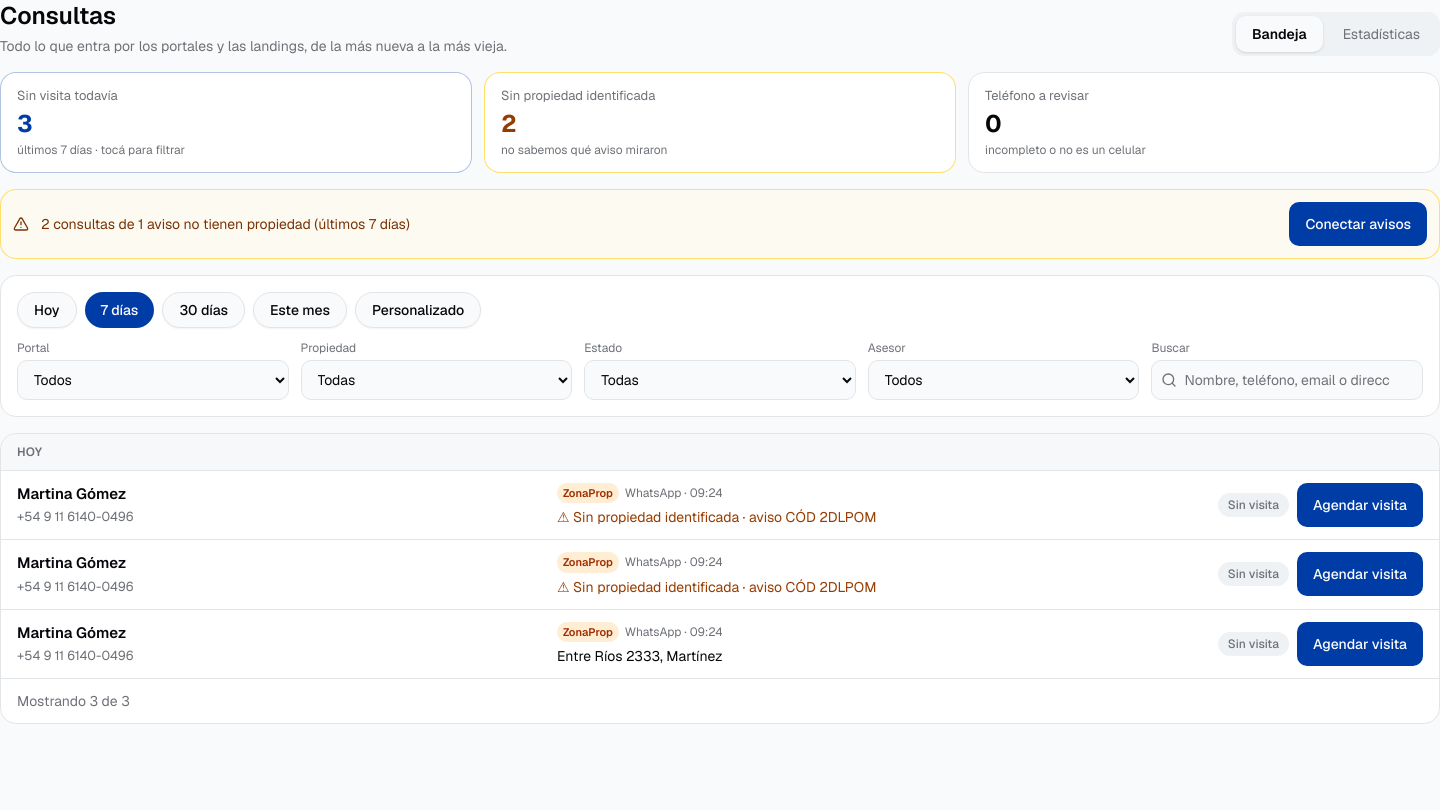
Test: /consultas — avisos sin propiedad › admin ve «2 consultas de 1 aviso no tienen propiedad» y conecta el aviso entero en un toque
The image size is (1440, 810).
Expected: the text "2 consultas de 1 aviso no tienen propiedad (últimos 7 días)" is shown, [41,215,410,233]
Click the button "Conectar avisos" at (1358,224), box [1290,202,1427,246]
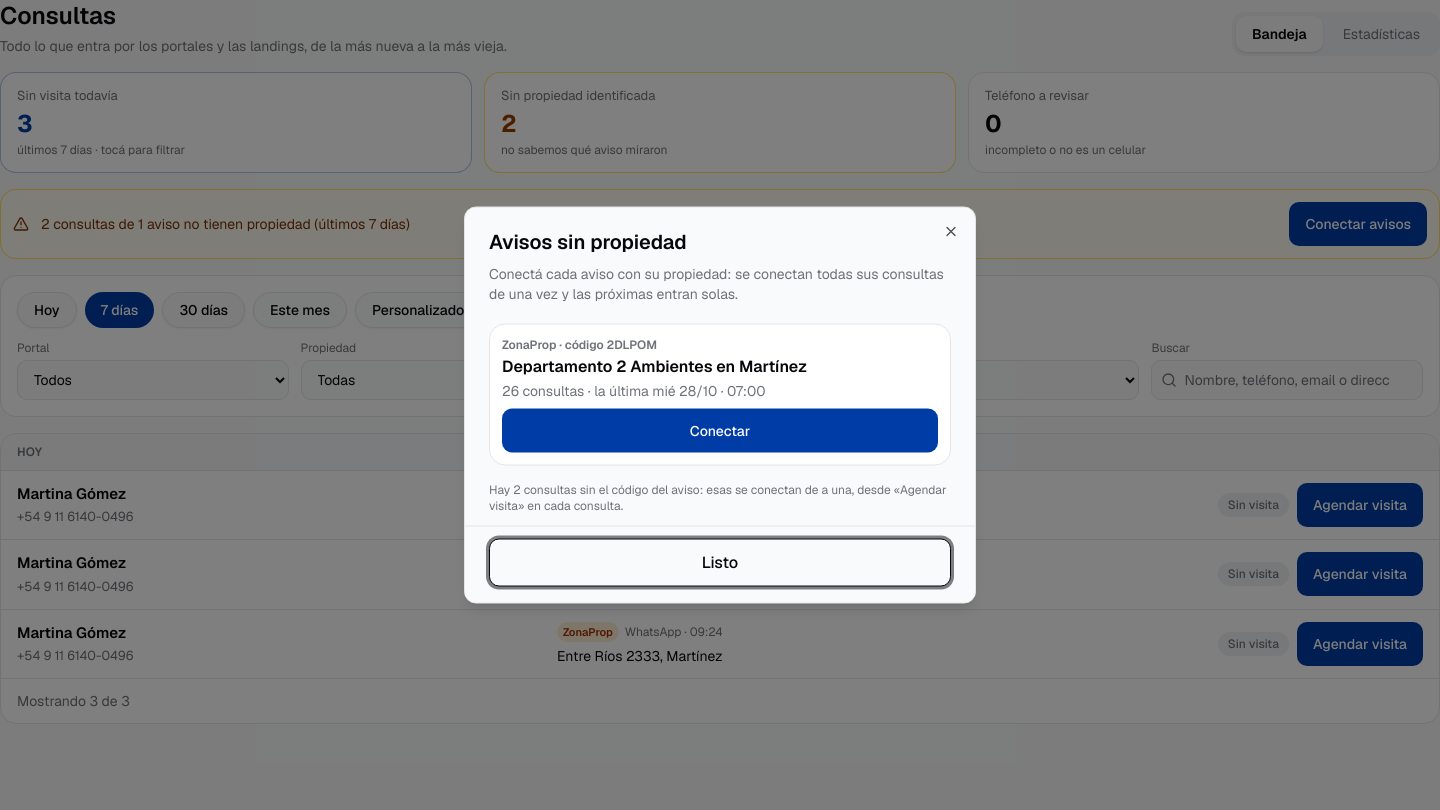
Expected: the text "Departamento 2 Ambientes en Martínez" is shown, [502,354,807,378]
Expected: the text "26 consultas · la última mié 28/10 · 07:00" is shown, [502,380,807,400]
Click the button "Conectar" at (720,430), box [502,408,938,452]
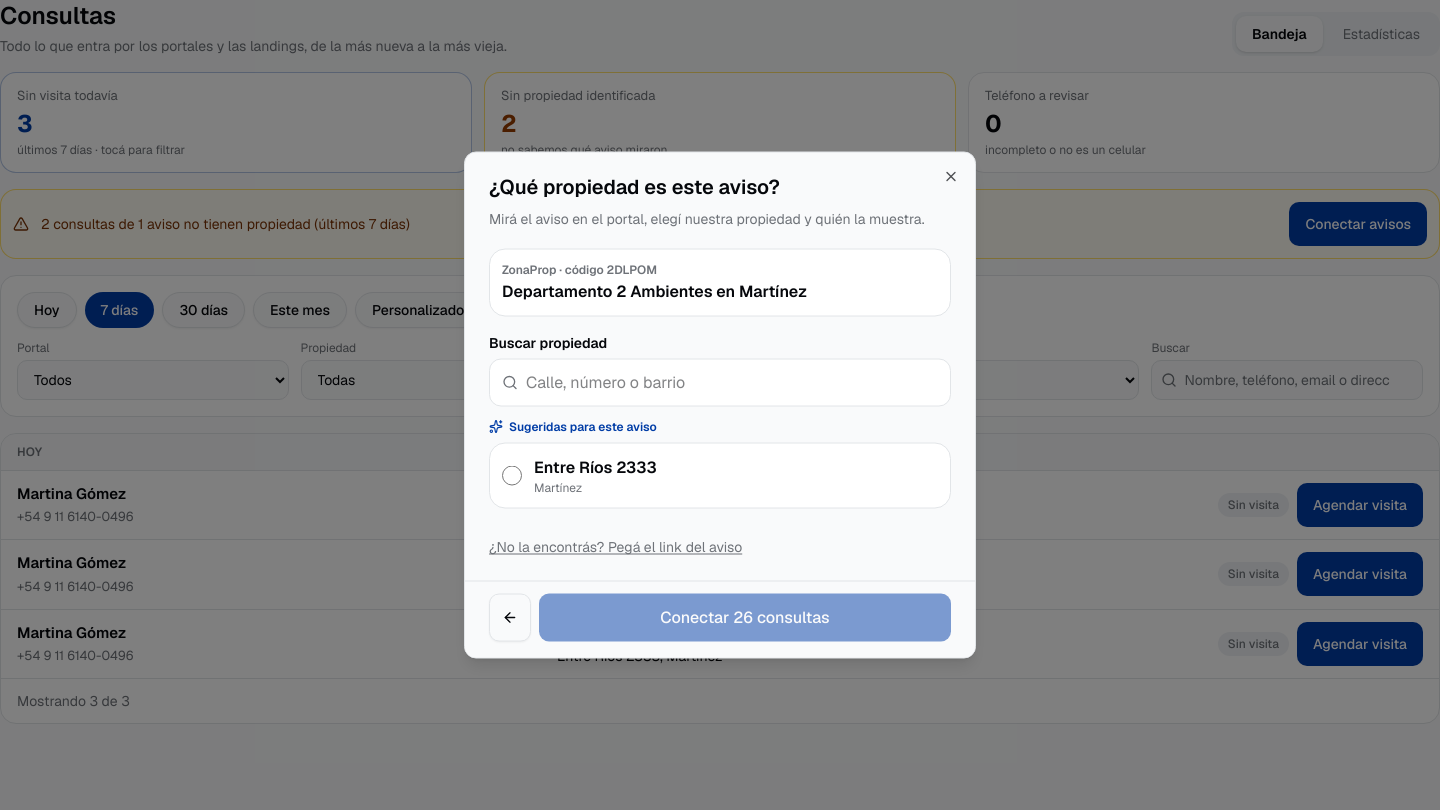
Expected: the text "Sugeridas para este aviso" is shown, [489,418,657,434]
Click the radio button labelled "Entre Ríos 2333 Martínez" at (512,476), box [502,466,522,486]
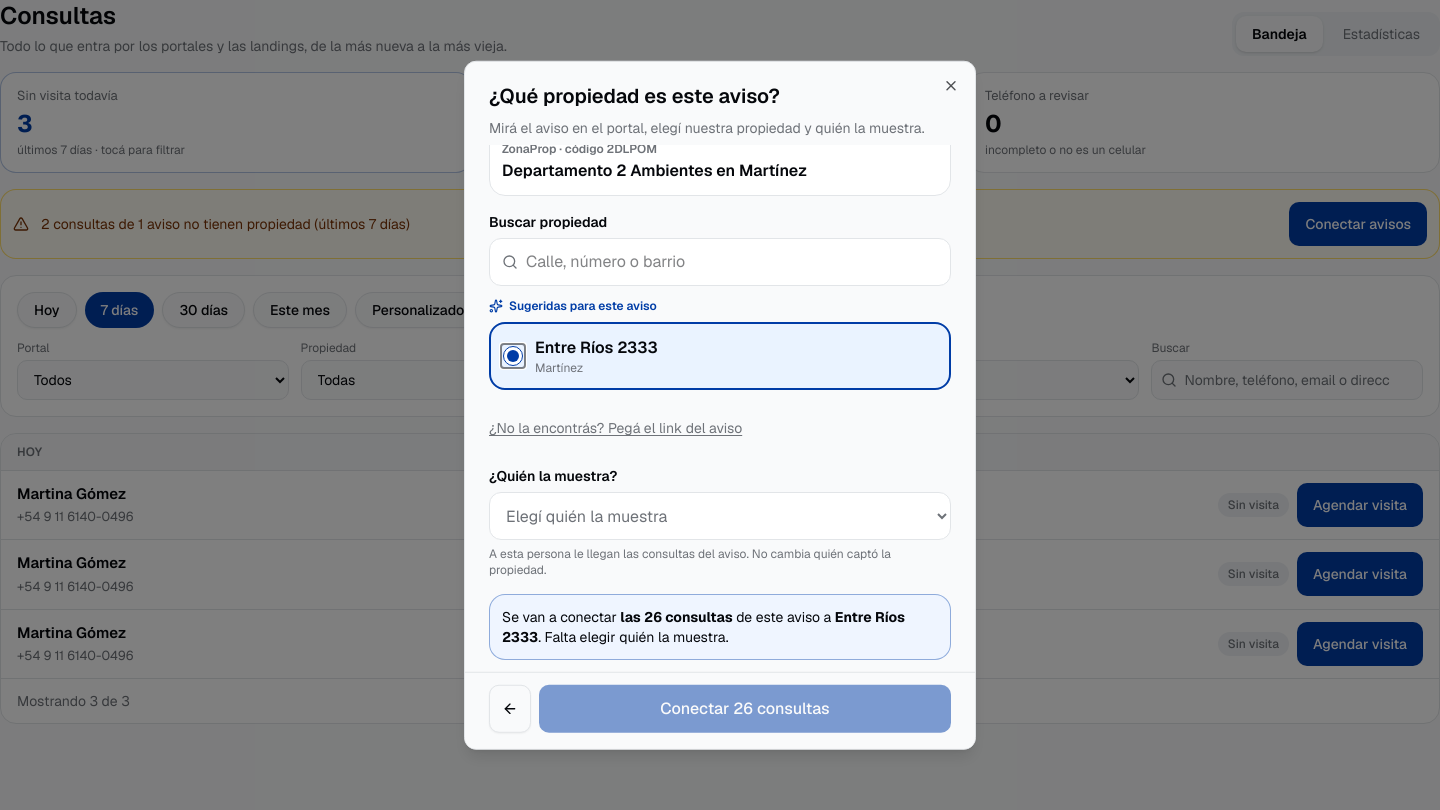
Expected: the button "Conectar 26 consultas" is disabled, [539,684,951,732]
Expected: the text "Se van a conectar" shows "Se van a conectar las 26 consultas de este aviso a Entre Ríos 2333", [489,594,951,660]
Select "Lucas Pérez" in the dropdown labelled "Quién la muestra" at (720,516), box [489,492,951,540]
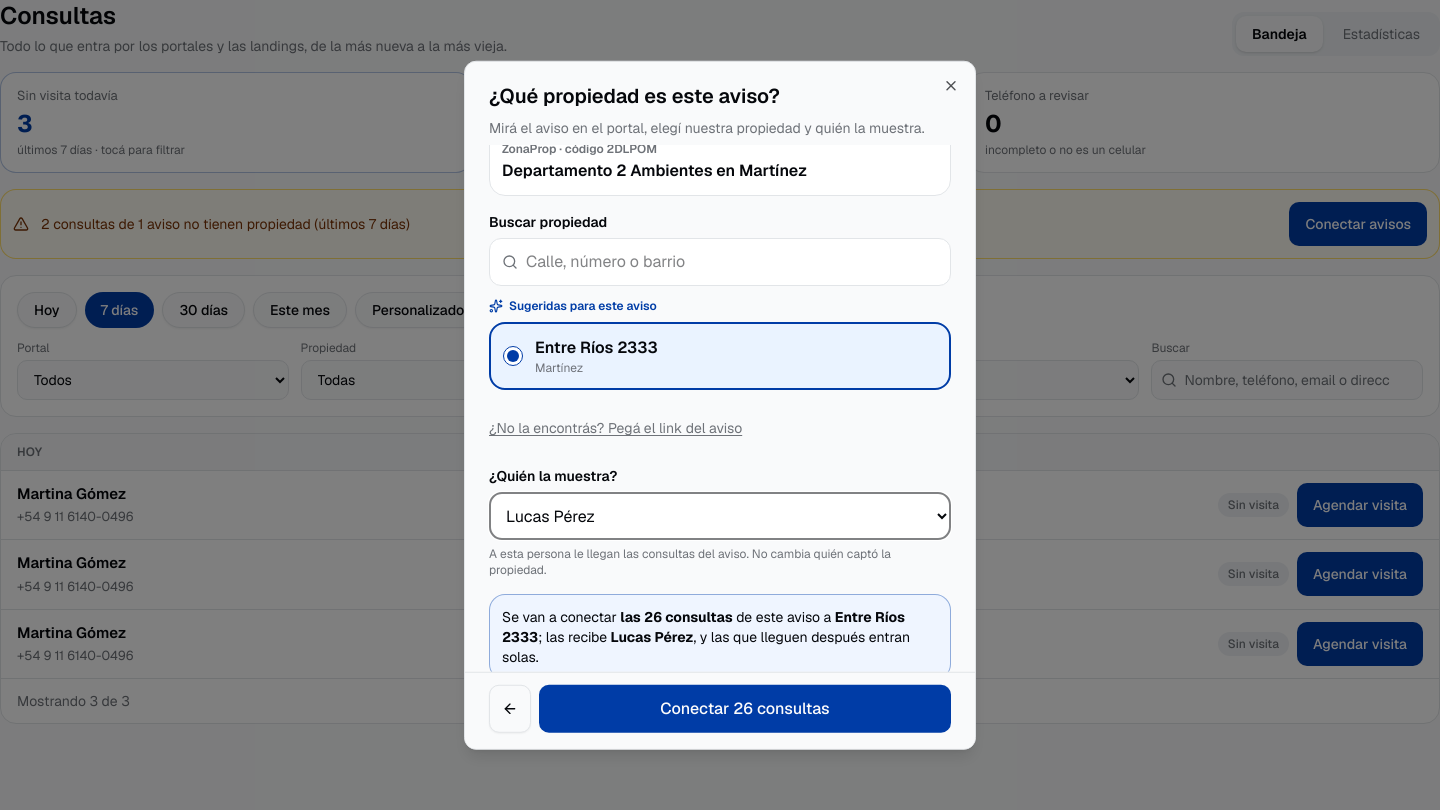
Click the button "Conectar 26 consultas" at (745,708), box [539,684,951,732]
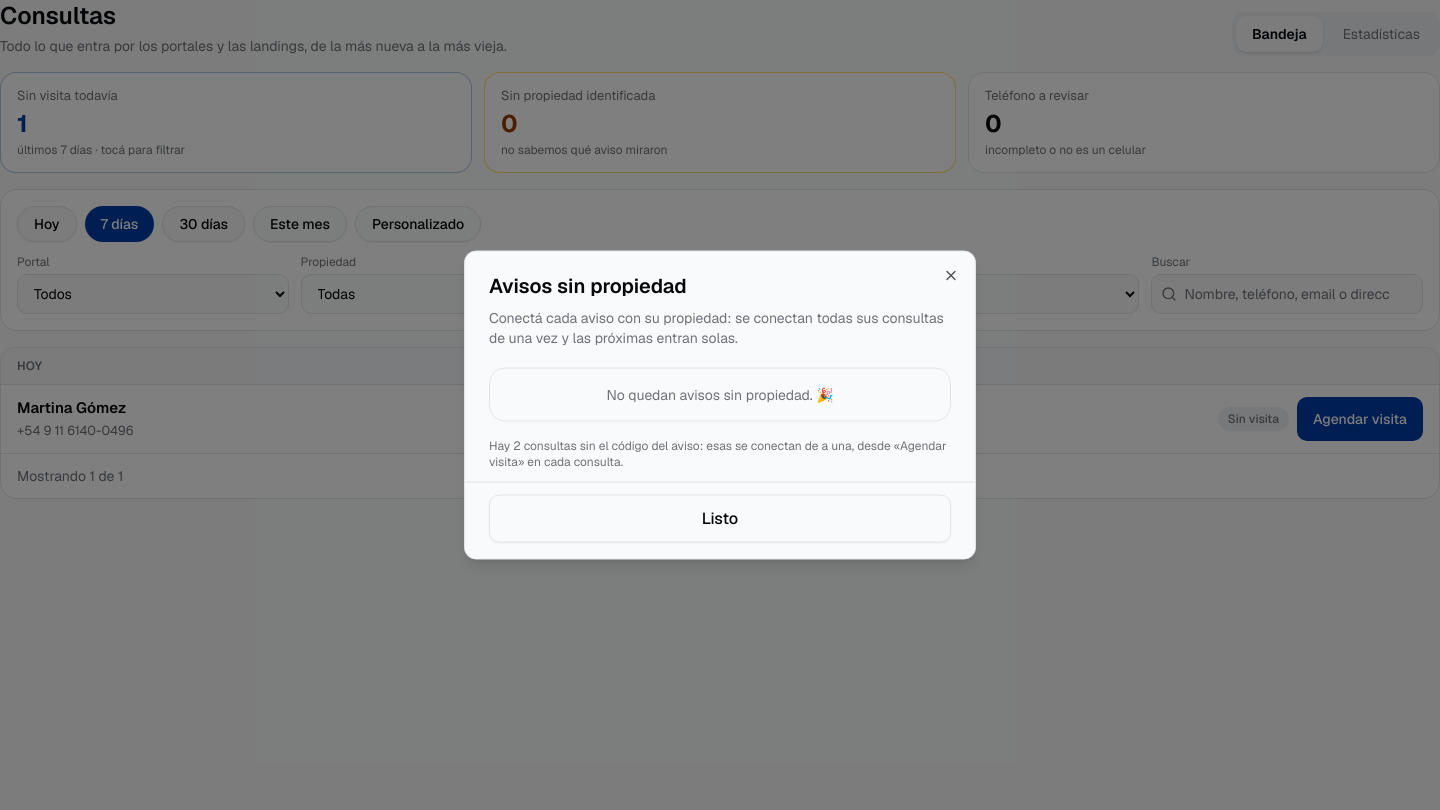
Expected: the text "No quedan avisos sin propiedad. 🎉" is shown, [489,368,951,422]
